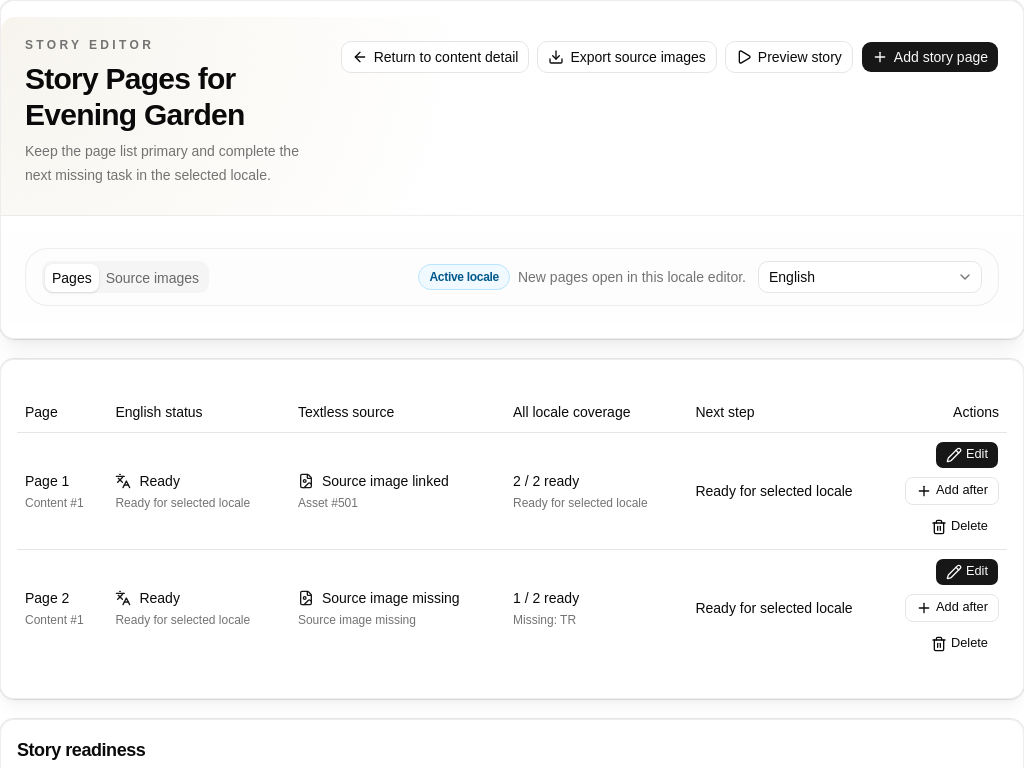
Test: StoryPagesRoute › opens the page editor with parent language workspaces
What coordinates should you click on to do the following:
click the button with aria-label "edit page 1"
I would click on:
 (967, 454)
Its box is [935,440,999,468].
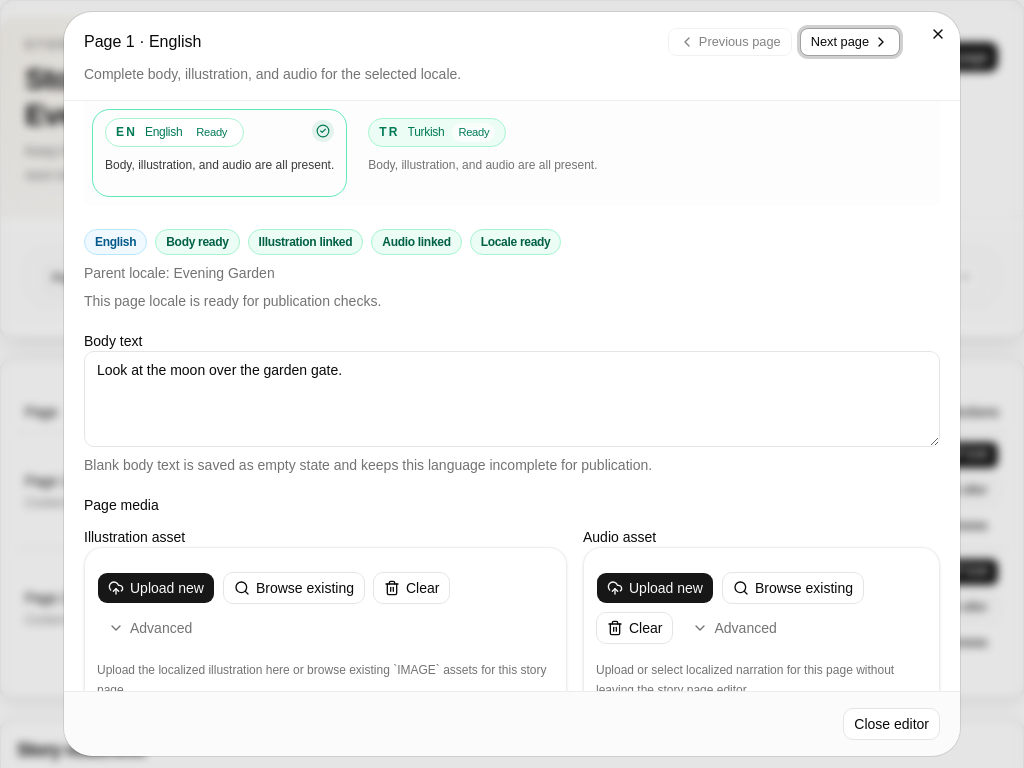
Check: the heading "Page 1 · English" is shown, box [84,34,201,50]
Check: the text "Turkish" is shown, box [408,124,444,140]
Check: the text "Illustration asset" is shown, box [84,529,185,545]
